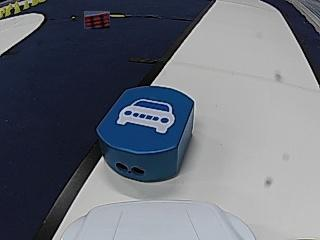safety: (117, 99, 178, 133)
